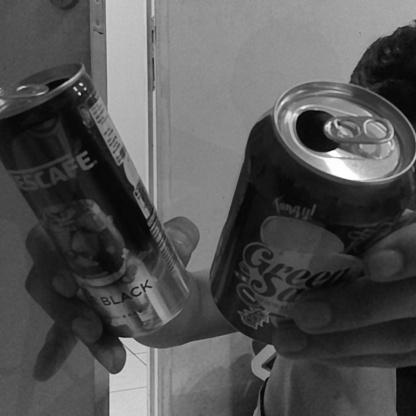alumunium_can: (210, 78, 416, 341), (0, 61, 188, 333)
